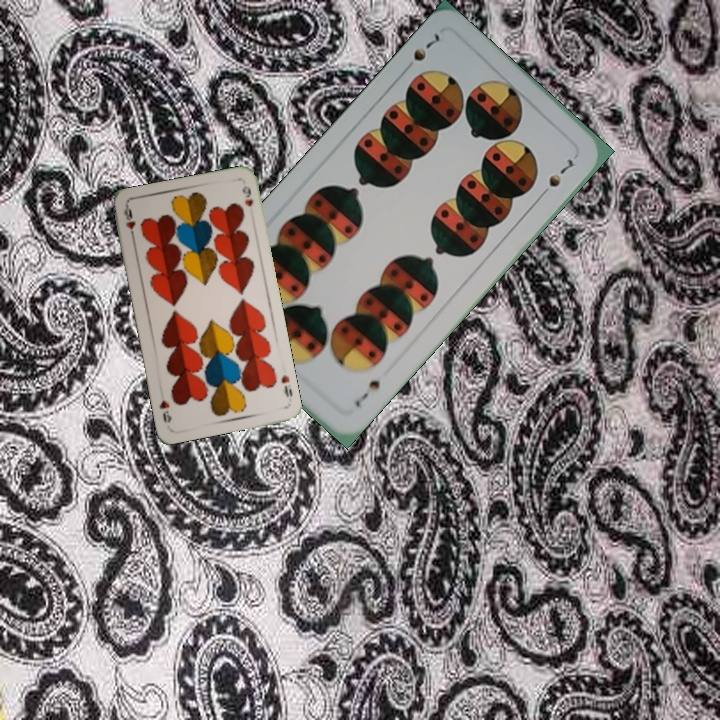H9: (120, 203, 138, 243), (277, 371, 295, 400)
S7: (399, 29, 442, 75), (351, 374, 385, 410)
